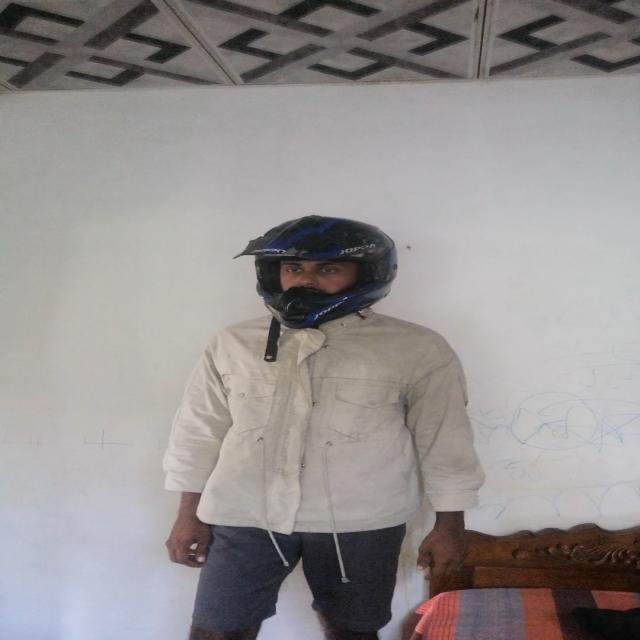Helmet_Wearer: (222, 206, 402, 312)
Jacket_Wearer: (191, 306, 489, 548)
Person: (175, 204, 456, 630)
